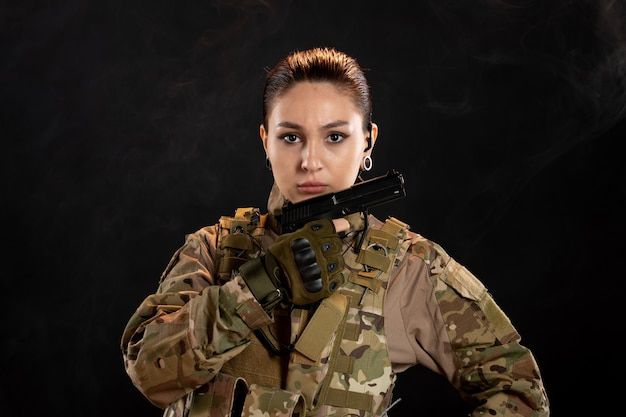gun: (269, 169, 407, 240)
